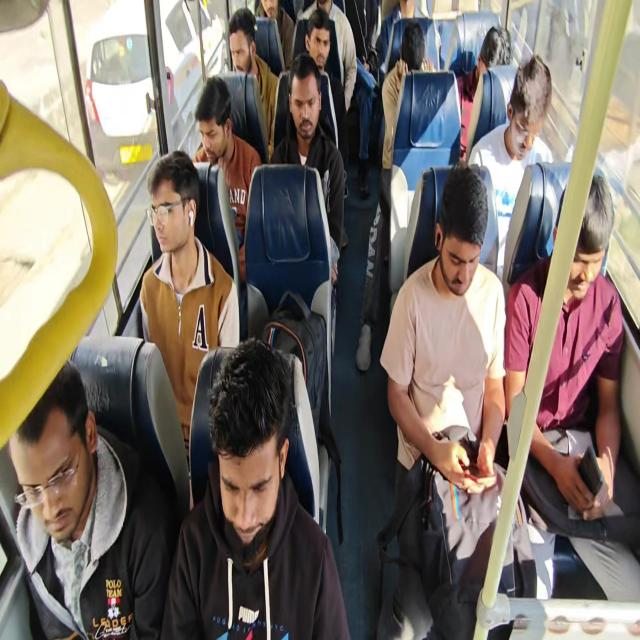person: (213, 348, 305, 566), (9, 365, 98, 554), (553, 162, 619, 306), (431, 161, 502, 294), (149, 142, 206, 276), (504, 56, 557, 175), (191, 70, 242, 162), (474, 9, 524, 77), (291, 52, 328, 138), (302, 9, 344, 80), (393, 12, 429, 87), (225, 4, 257, 76)
